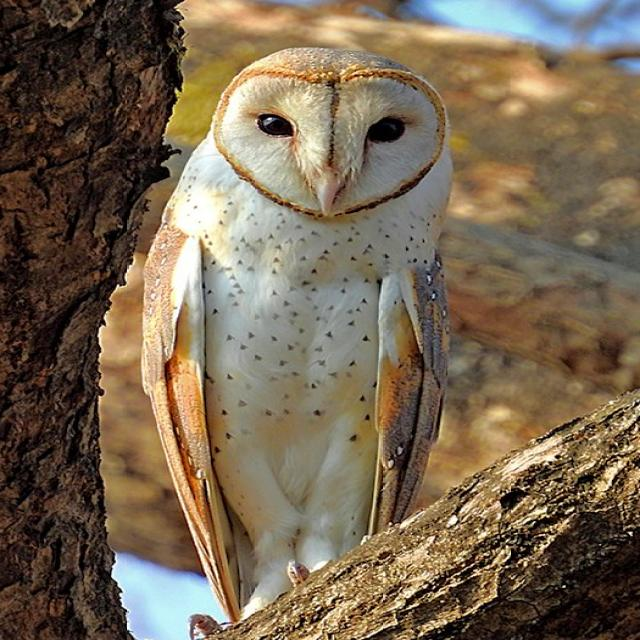owl: (144, 48, 452, 621)
